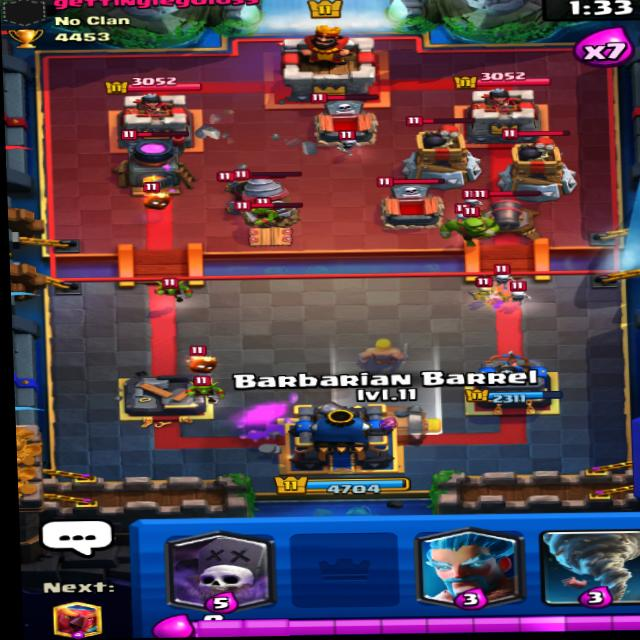bomb-tower: (404, 115, 483, 188), (500, 127, 583, 196)
brawler: (441, 208, 503, 243)
cannon: (465, 186, 557, 240)
fire-spirit: (132, 184, 172, 214), (183, 343, 223, 371)
furnace: (110, 124, 198, 194)
goblin: (183, 367, 225, 404), (151, 272, 194, 303), (245, 194, 277, 227)
goblin-drill: (227, 163, 314, 228)
skeleton: (465, 276, 505, 306), (480, 261, 516, 291), (331, 132, 371, 153), (505, 279, 535, 305), (454, 187, 485, 211)
tesla-closed: (221, 197, 313, 252)
tombstone: (371, 172, 446, 235), (301, 89, 383, 146)
